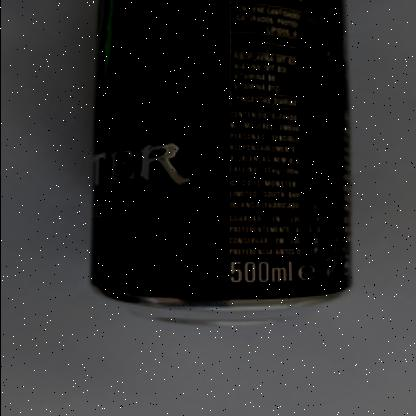Can: (90, 0, 352, 326)
